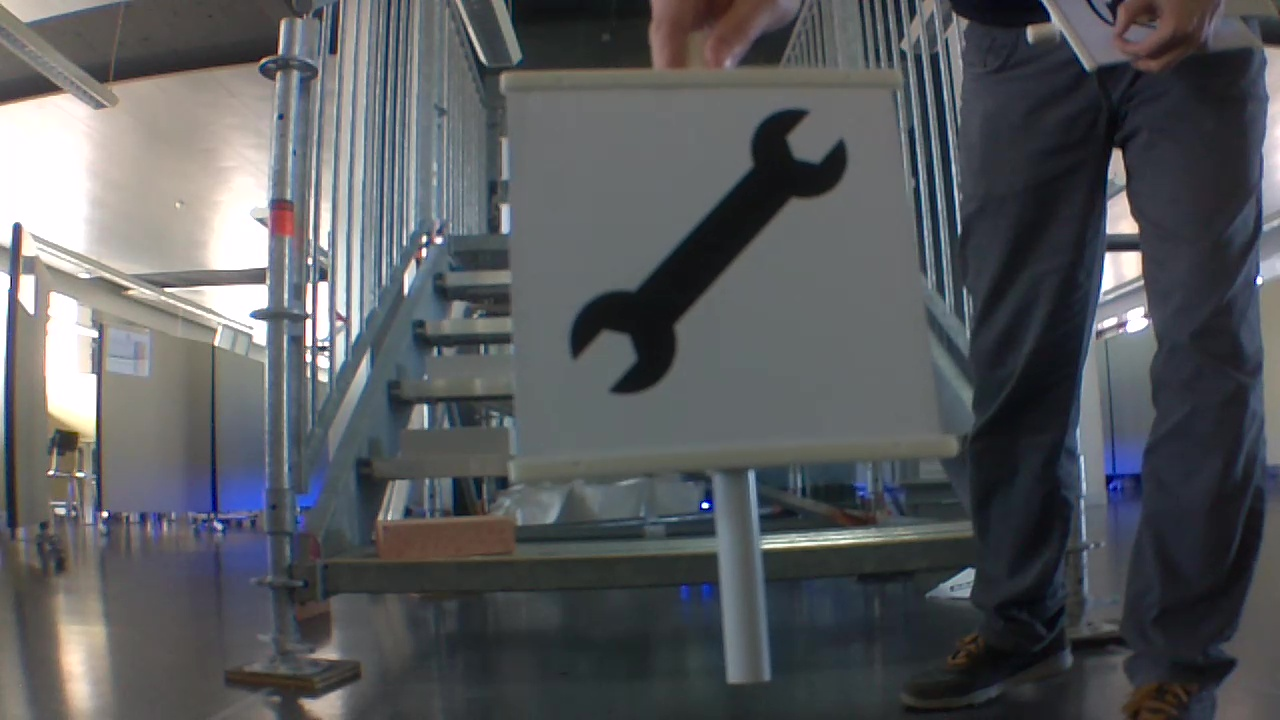brick: (373, 522, 513, 552), (403, 427, 512, 455), (426, 353, 513, 371)
